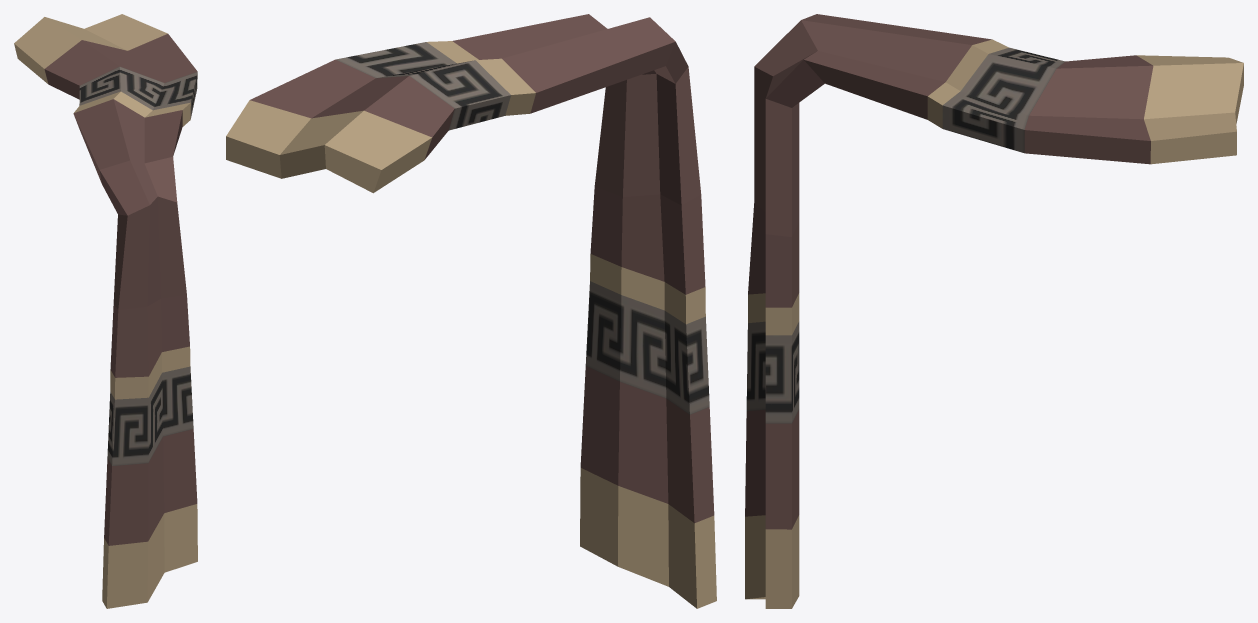
Rendered from ancient_SM_Prop_Banner_Drape_01.gltf.
The picture shows the model from 3 angles, left to right: view 1: azimuth 30°, elevation 25°; view 2: azimuth 150°, elevation 25°; view 3: azimuth 270°, elevation 25°; orthographic projection. The views are drawn at different scales.
Parts seen in each view (by area): view 1: SM_Prop_Banner_Drape_01; view 2: SM_Prop_Banner_Drape_01; view 3: SM_Prop_Banner_Drape_01.
Boxes of the visible parts, x1=… form: SM_Prop_Banner_Drape_01: x1=14, y1=14, x2=197, y2=608; SM_Prop_Banner_Drape_01: x1=226, y1=14, x2=716, y2=608; SM_Prop_Banner_Drape_01: x1=745, y1=14, x2=1243, y2=608.
Bounding box in the file's own units: 0.3352 × 0.6897 × 0.5243.
1 material, 1 textured.
